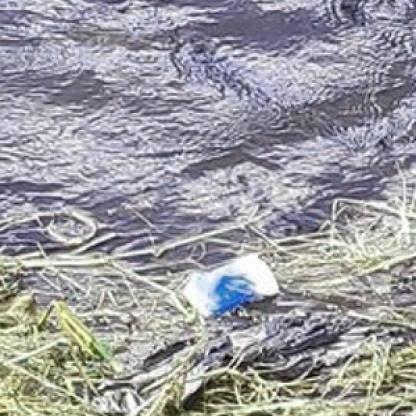Trash: (182, 250, 283, 322)
